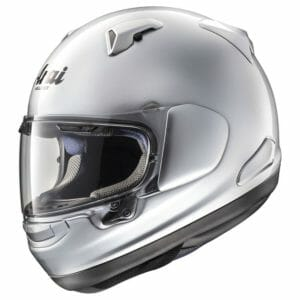with_helmet: (15, 2, 285, 295)
